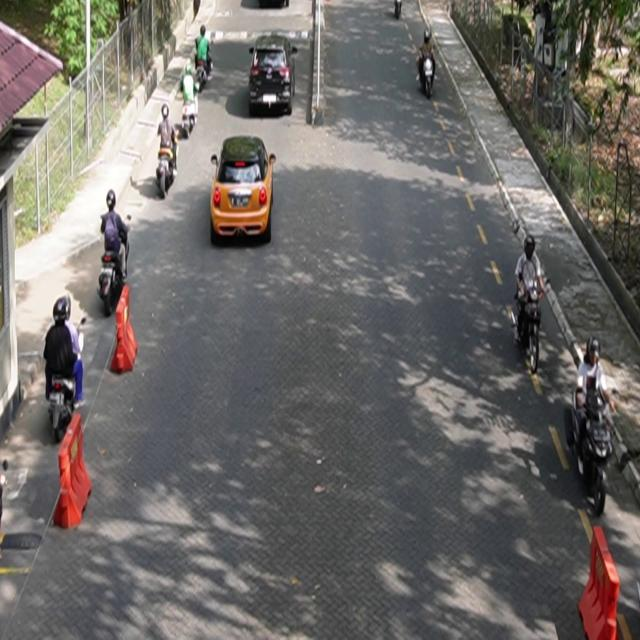car: (211, 136, 277, 245), (249, 35, 299, 117)
